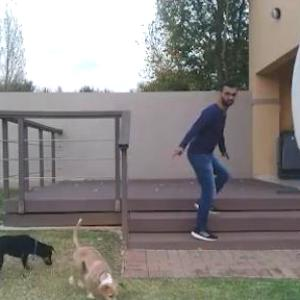land: (171, 78, 243, 239)
